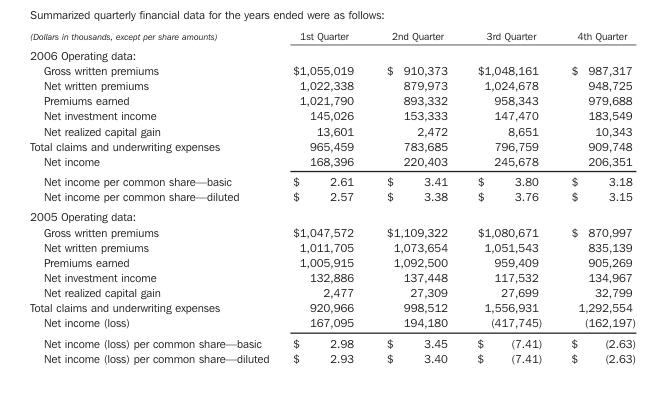table: (29, 28, 635, 364)
table column: (29, 28, 280, 364), (461, 28, 555, 364), (369, 28, 461, 364), (280, 28, 369, 364), (555, 28, 635, 364)
table column header: (29, 28, 635, 44)
table projected row header: (29, 44, 635, 62), (29, 206, 635, 223)
table row: (29, 44, 635, 62), (29, 170, 635, 188), (29, 188, 635, 206), (29, 314, 635, 332), (29, 332, 635, 350), (29, 153, 635, 170), (29, 206, 635, 223), (29, 28, 635, 44), (29, 122, 635, 138), (29, 223, 635, 239), (29, 62, 635, 77), (29, 77, 635, 92), (29, 92, 635, 107), (29, 107, 635, 122), (29, 138, 635, 153), (29, 239, 635, 254), (29, 254, 635, 269), (29, 269, 635, 284), (29, 284, 635, 299), (29, 299, 635, 314), (29, 350, 635, 364)
